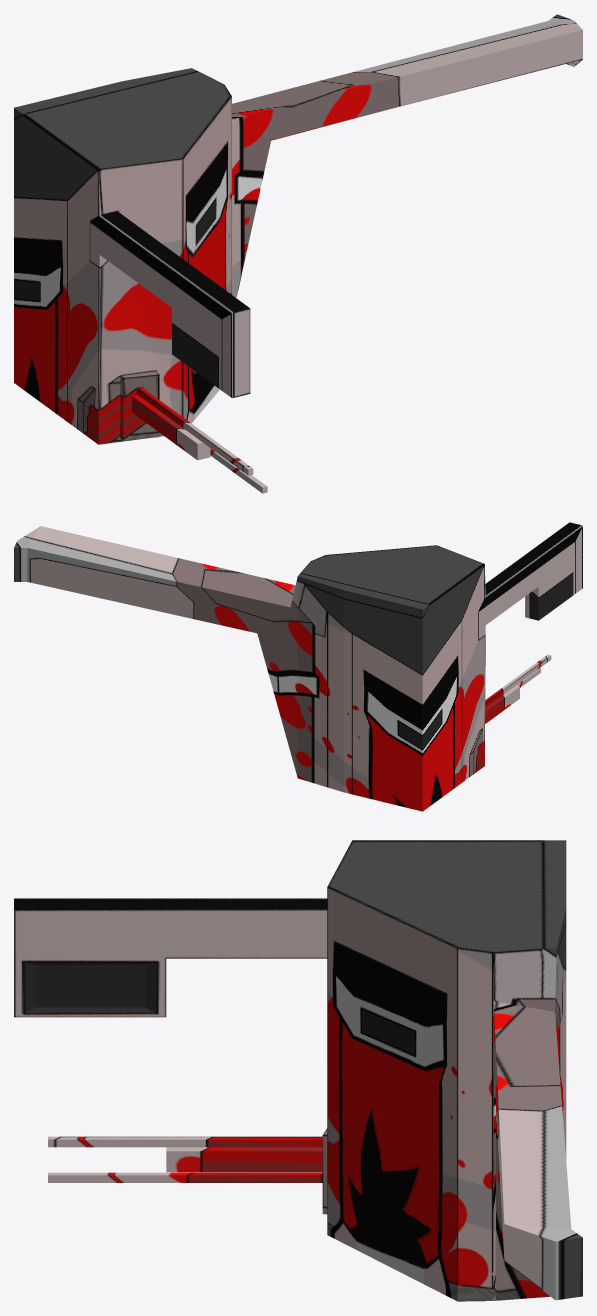
The model's file is structure1.fbx.
3 views of the same model, one above another, from view 1: azimuth 30°, elevation 25°; view 2: azimuth 150°, elevation 25°; view 3: azimuth 270°, elevation 25° (orthographic). The views are drawn at different scales.
Visible parts, largest first — view 1: Cube.007; view 2: Cube.007; view 3: Cube.007.
Part boxes in pixels (left/top/right/bottom): Cube.007: left=14, top=14, right=582, bottom=493; Cube.007: left=14, top=522, right=582, bottom=811; Cube.007: left=14, top=840, right=582, bottom=1301.
Size of the model in its own units: 589 by 282 by 412.
